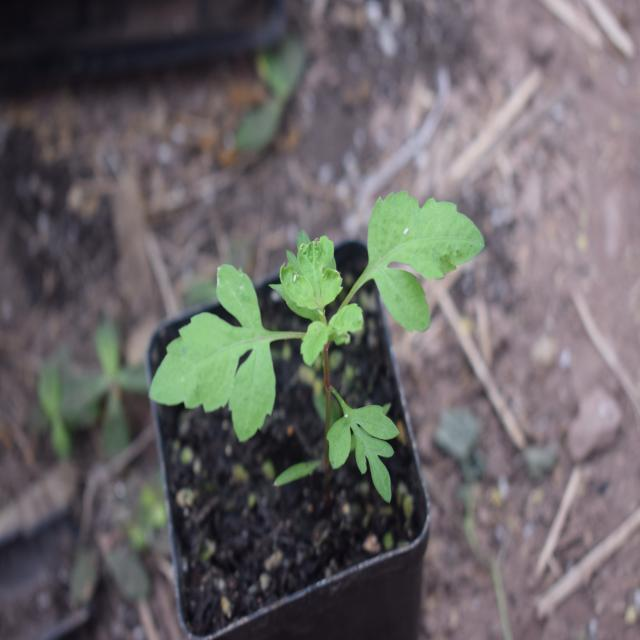Bidens pilosa: (147, 165, 492, 503)
